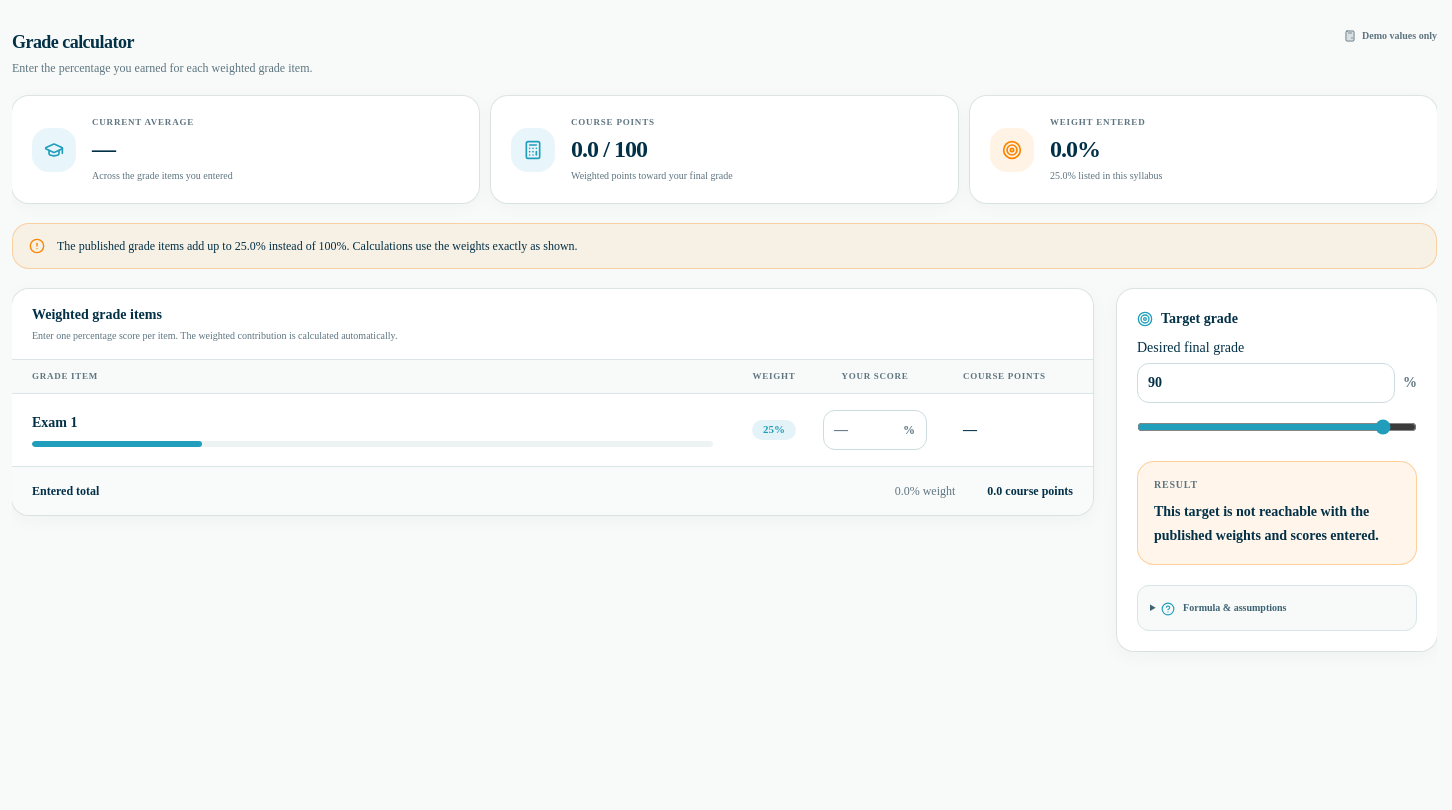
Scenario: percentage grade entry › accepts extra credit without showing a score stepper
Type "110" into the field named "Exam 1 score percent" at (875, 430), box x1=823 y1=410 x2=927 y2=450
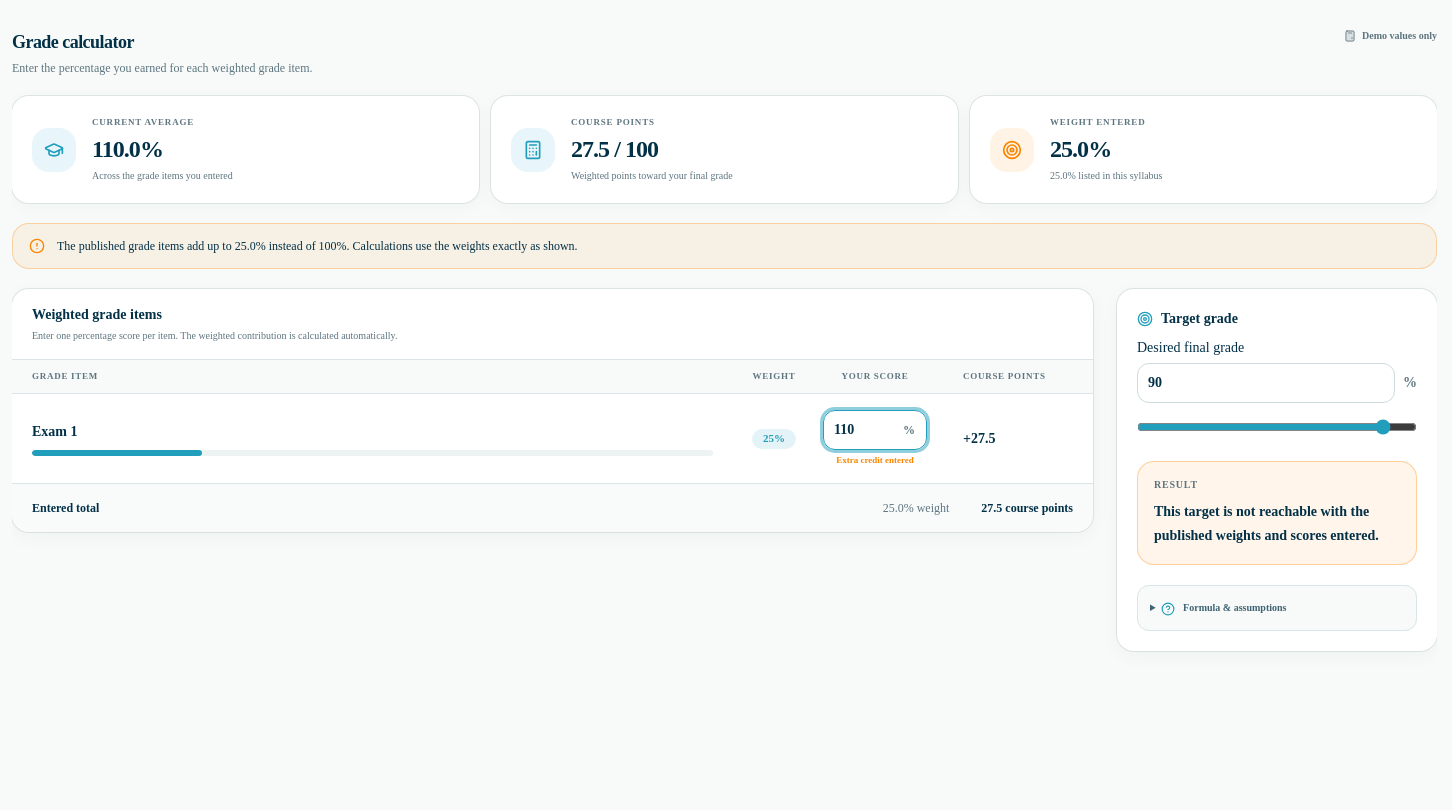
Expected: the text "Extra credit entered" is shown, x1=836 y1=455 x2=914 y2=465
Expected: the text "+27.5" is shown, x1=963 y1=431 x2=996 y2=446
Expected: the text "110.0%" is shown, x1=92 y1=136 x2=163 y2=162
